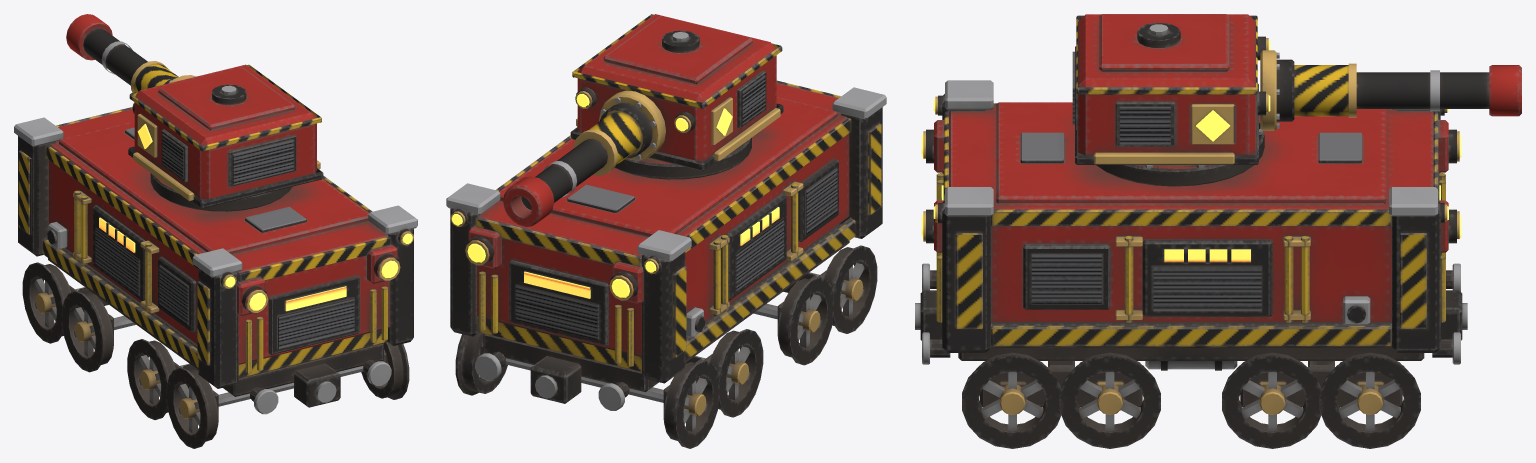
The model's file is SM_DRL_GunCar.fbx.
The picture shows the model from 3 angles, left to right: view 1: azimuth 30°, elevation 25°; view 2: azimuth 150°, elevation 25°; view 3: azimuth 270°, elevation 25°; orthographic projection. The views are drawn at different scales.
Visible parts, largest first — view 1: Body, Turret, Axle_4, Cannon, Axle_2, Axle_1, Axle_3; view 2: Body, Turret, Cannon, Axle_1, Axle_3, Axle_2, Axle_4; view 3: Body, Turret, Cannon, Axle_3, Axle_1, Axle_4, Axle_2.
Part boxes in pixels (x1,y1,x2,y2): Body: [14, 107, 417, 422]; Turret: [128, 64, 323, 211]; Axle_4: [166, 342, 409, 448]; Cannon: [66, 14, 178, 92]; Axle_2: [62, 291, 135, 372]; Axle_1: [22, 262, 85, 343]; Axle_3: [127, 339, 189, 419]; Body: [446, 80, 886, 419]; Turret: [570, 14, 783, 179]; Cannon: [503, 103, 652, 226]; Axle_1: [455, 332, 720, 448]; Axle_3: [753, 277, 833, 365]; Axle_2: [694, 329, 763, 417]; Axle_4: [809, 245, 877, 333]; Body: [915, 80, 1467, 407]; Turret: [1072, 14, 1279, 186]; Cannon: [1276, 59, 1521, 121]; Axle_3: [1059, 352, 1160, 448]; Axle_1: [1319, 352, 1420, 448]; Axle_4: [962, 352, 1062, 448]; Axle_2: [1222, 352, 1321, 448].
Bounding box in the file's own units: 1.1 × 2.24 × 1.46.
